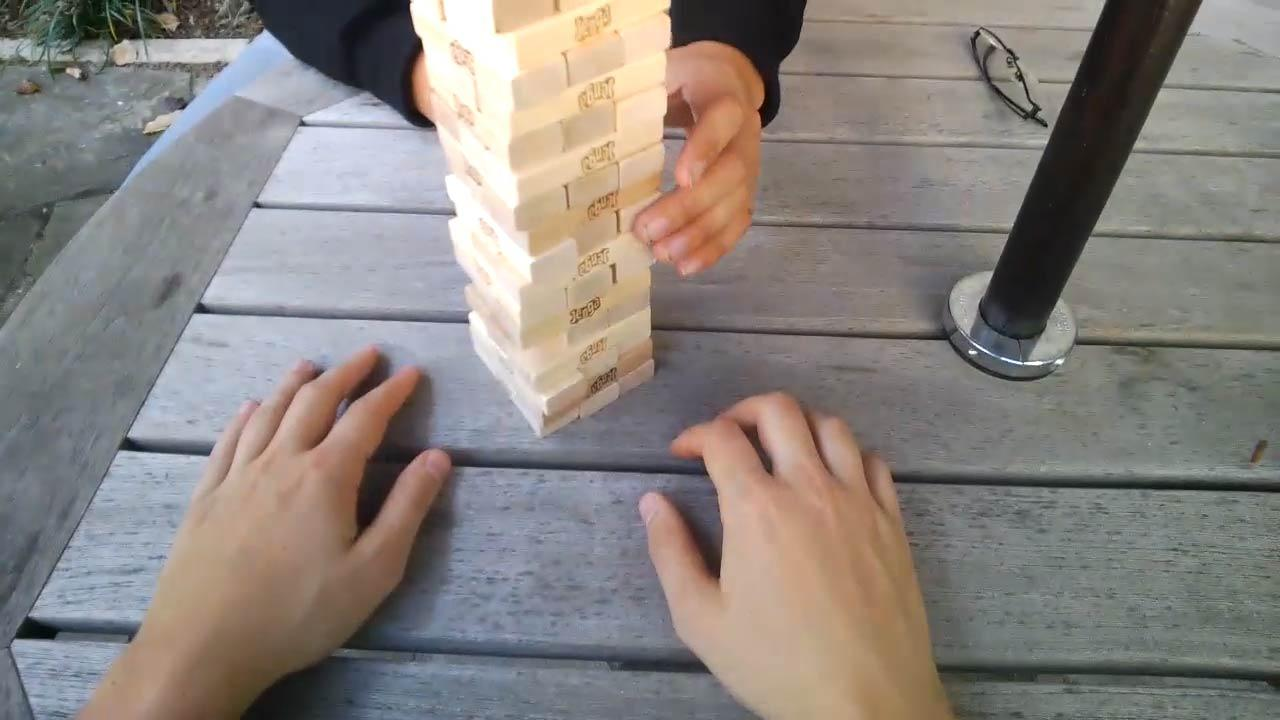hand: (164, 344, 449, 695), (638, 390, 933, 712), (629, 43, 761, 280)
